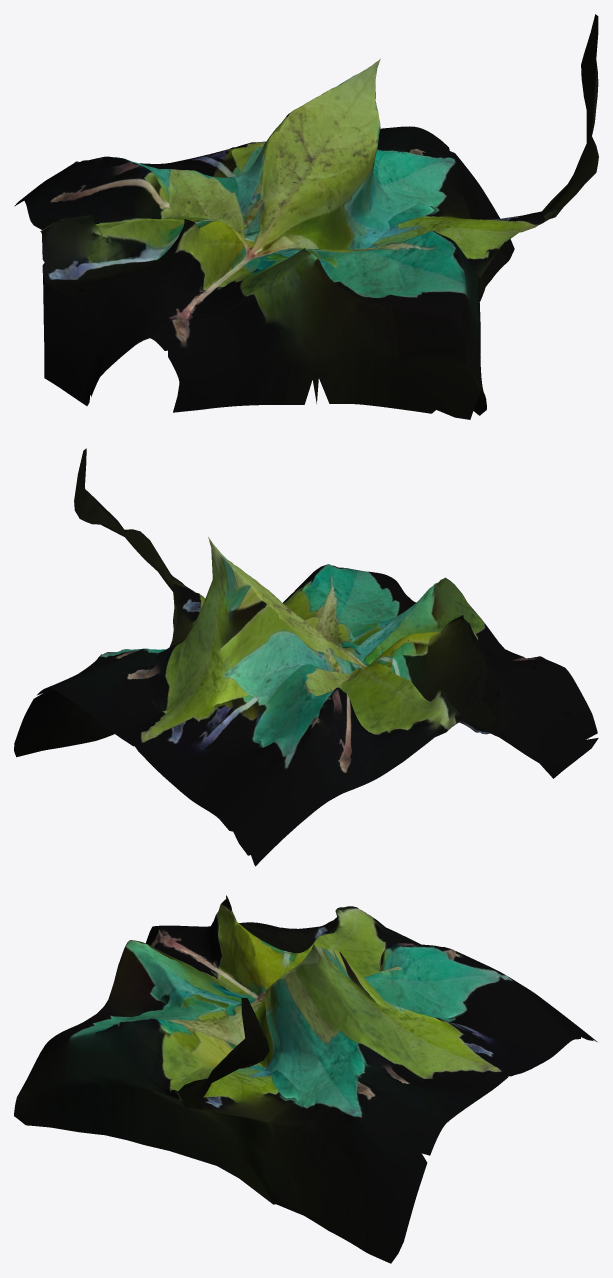
Rendered from leaf-13.glb.
3 renders of one model, top to bottom at view 1: azimuth 30°, elevation 25°; view 2: azimuth 150°, elevation 25°; view 3: azimuth 270°, elevation 25°, orthographic. The views are drawn at different scales.
Parts seen in each view (by area): view 1: Mesh; view 2: Mesh; view 3: Mesh.
Part boxes in pixels (left/top/right/bottom): Mesh: left=14, top=14, right=598, bottom=419; Mesh: left=14, top=448, right=598, bottom=866; Mesh: left=14, top=895, right=596, bottom=1263.
Bounding box in the file's own units: 0.2775 × 0.1414 × 0.281.
Materials: 1 (1 with a texture image).
